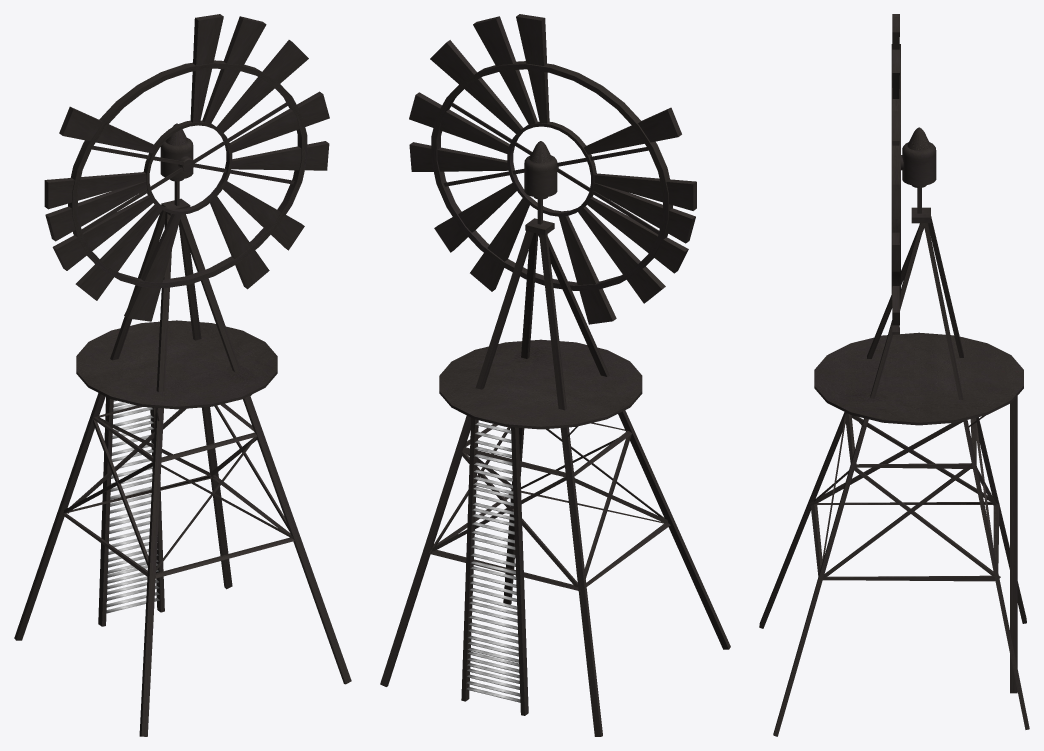
File: Desert building5(05-06).FBX
The picture shows the model from 3 angles, left to right: view 1: azimuth 30°, elevation 25°; view 2: azimuth 150°, elevation 25°; view 3: azimuth 270°, elevation 25°; orthographic projection. The views are drawn at different scales.
Visible parts, largest first — view 1: Tube001; view 2: Tube001; view 3: Tube001.
Part boxes in pixels (left/top/right/bottom): Tube001: left=14, top=14, right=351, bottom=736; Tube001: left=380, top=14, right=730, bottom=736; Tube001: left=759, top=14, right=1029, bottom=736.
Bounding box in the file's own units: 878 × 1923 × 701.
